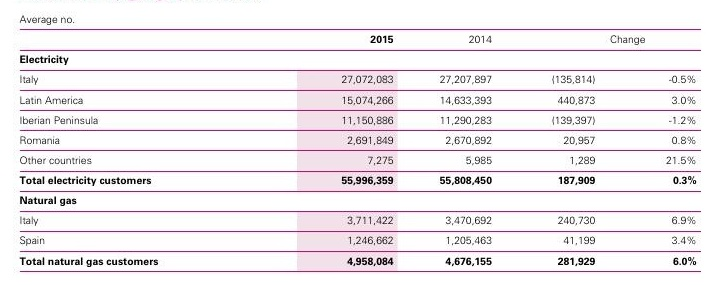table: (0, 0, 719, 285)
